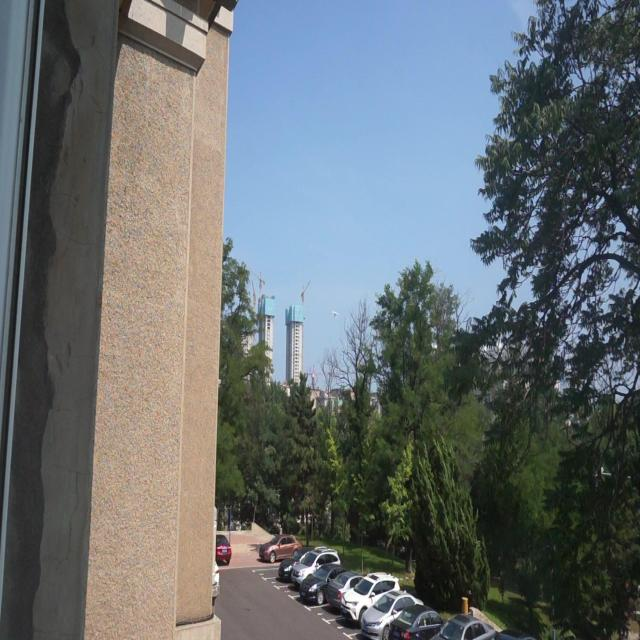drone: (330, 307, 340, 321)
